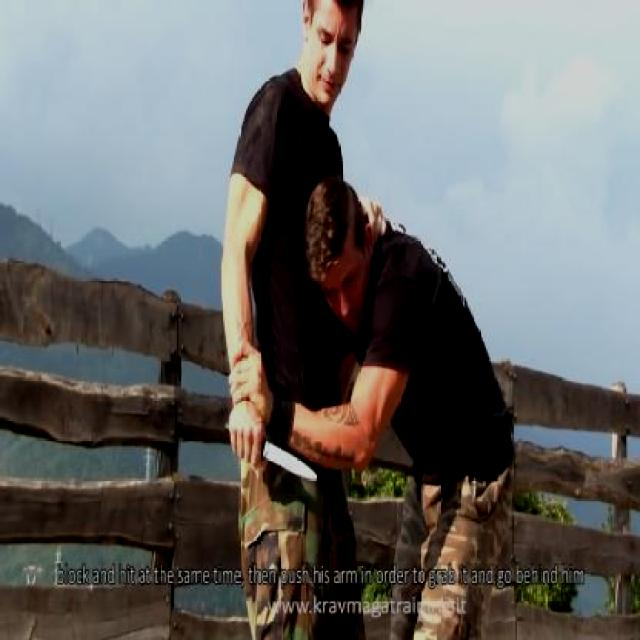knife: (223, 404, 323, 488)
